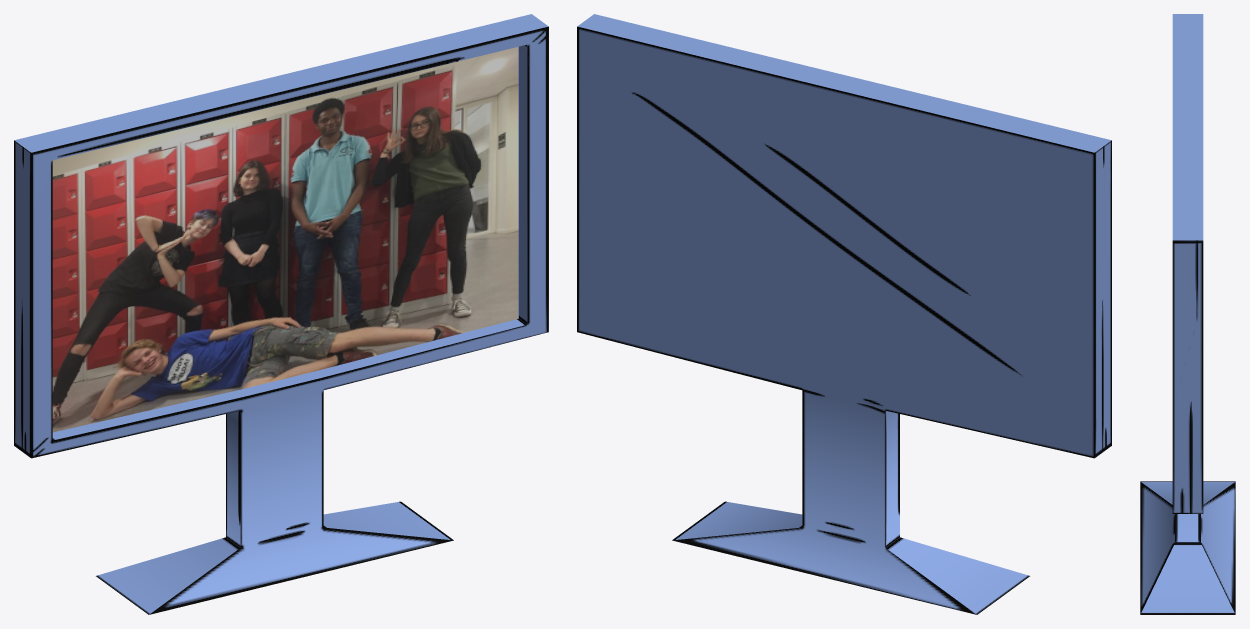
The model's file is monitor2.fbx.
3 renders of one model, left to right at view 1: azimuth 30°, elevation 25°; view 2: azimuth 150°, elevation 25°; view 3: azimuth 270°, elevation 25°, orthographic. The views are drawn at different scales.
Parts seen in each view (by area): view 1: monitor; view 2: monitor; view 3: monitor.
Boxes of the visible parts, x1,y1,x2,y2 form: monitor: (14, 14, 548, 614); monitor: (577, 14, 1111, 614); monitor: (1140, 14, 1235, 614).
Bounding box in the file's own units: 0.5595 × 0.4888 × 0.0997.
Materials: 1 (1 with a texture image).
